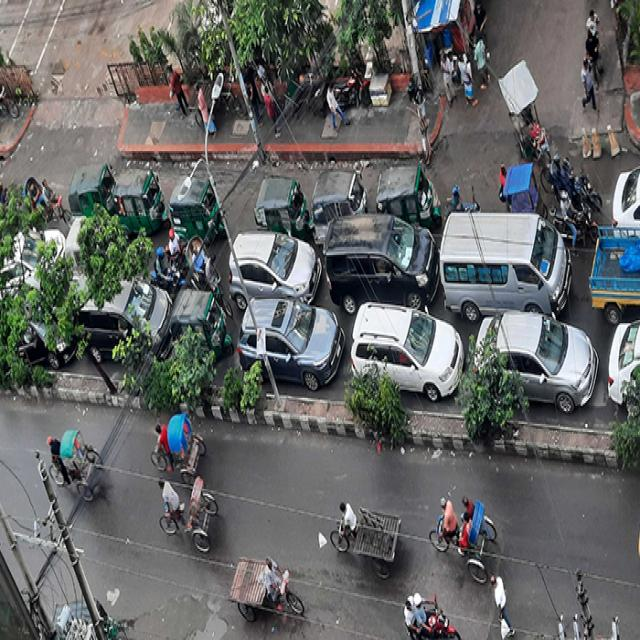car: (440, 213, 577, 300), (479, 318, 598, 406), (351, 301, 456, 388), (322, 218, 433, 291), (236, 299, 339, 375), (229, 226, 310, 294)
rickshaw: (223, 548, 305, 622), (431, 488, 493, 574), (329, 497, 404, 567), (39, 422, 105, 497), (146, 409, 210, 476), (165, 483, 223, 551)
